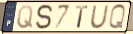7: (54, 4, 72, 31)
Q: (108, 4, 127, 31), (16, 4, 35, 30)
S: (35, 4, 54, 31)
T: (75, 5, 89, 29)
U: (89, 5, 110, 30)
